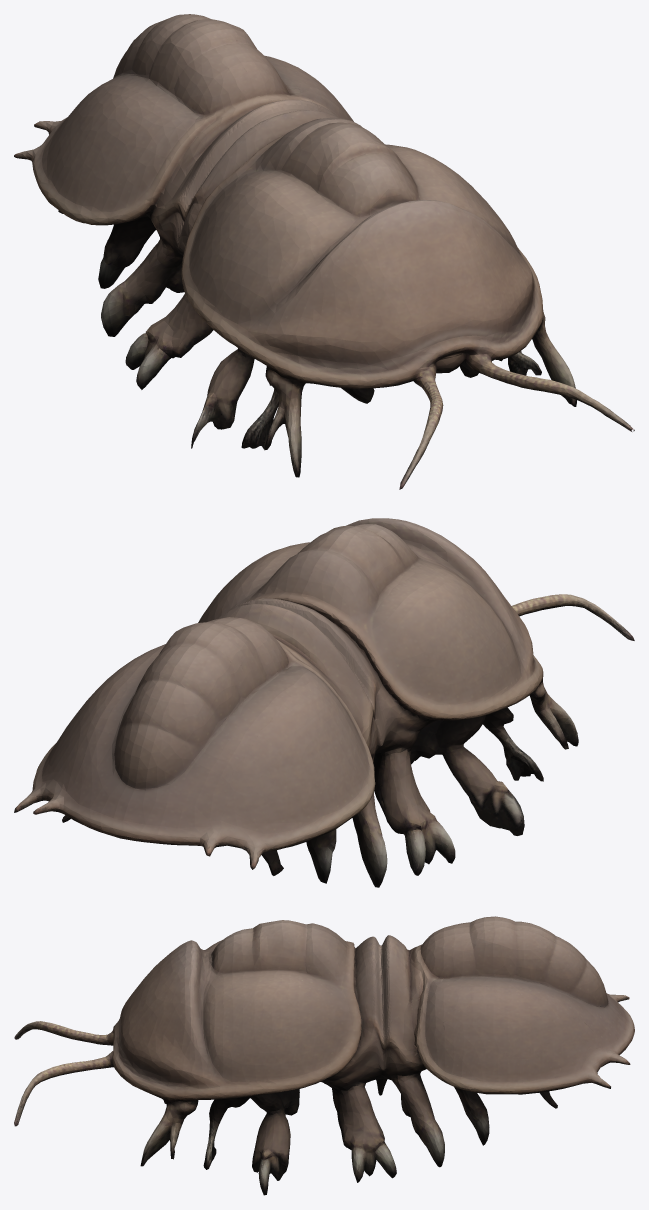
3 views of the same model, one above another, from view 1: azimuth 30°, elevation 25°; view 2: azimuth 150°, elevation 25°; view 3: azimuth 270°, elevation 25° (orthographic). The views are drawn at different scales.
Parts seen in each view (by area): view 1: Agnostus_two_thoracic_plates_local_repair; view 2: Agnostus_two_thoracic_plates_local_repair; view 3: Agnostus_two_thoracic_plates_local_repair.
Boxes of the visible parts, x1,y1,x2,y2 form: Agnostus_two_thoracic_plates_local_repair: (14, 14, 634, 489); Agnostus_two_thoracic_plates_local_repair: (14, 518, 634, 887); Agnostus_two_thoracic_plates_local_repair: (14, 916, 634, 1195).
Bounding box in the file's own units: 0.00382 × 0.00303 × 0.008.
1 material, 1 textured.
